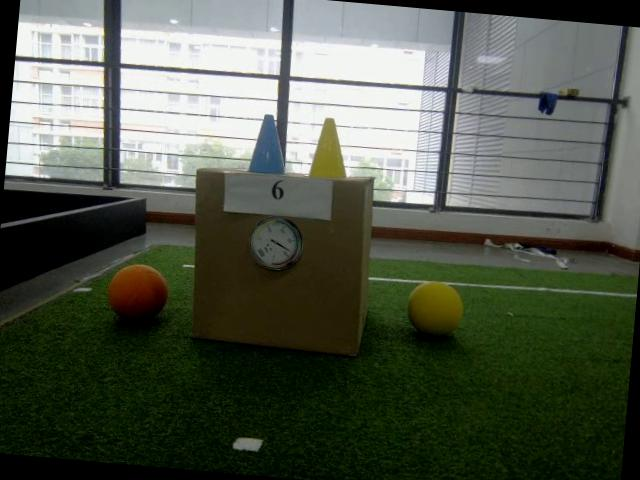6: (268, 178, 286, 199)
Dashboard: (248, 214, 304, 272)
blue_barrel: (248, 112, 288, 173)
orange_ball: (104, 261, 172, 326)
ssi: (256, 248, 266, 257)
yellow_ball: (404, 279, 466, 338)
yellow_barrel: (306, 115, 352, 181)
